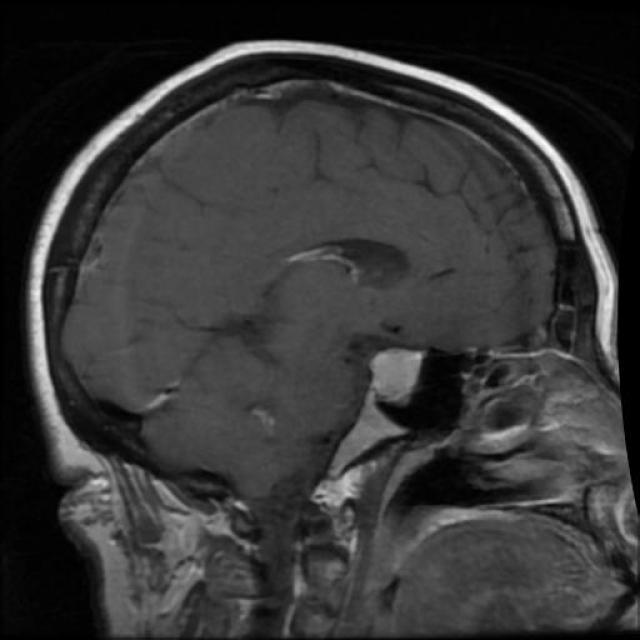pituitary: (309, 340, 429, 510)
